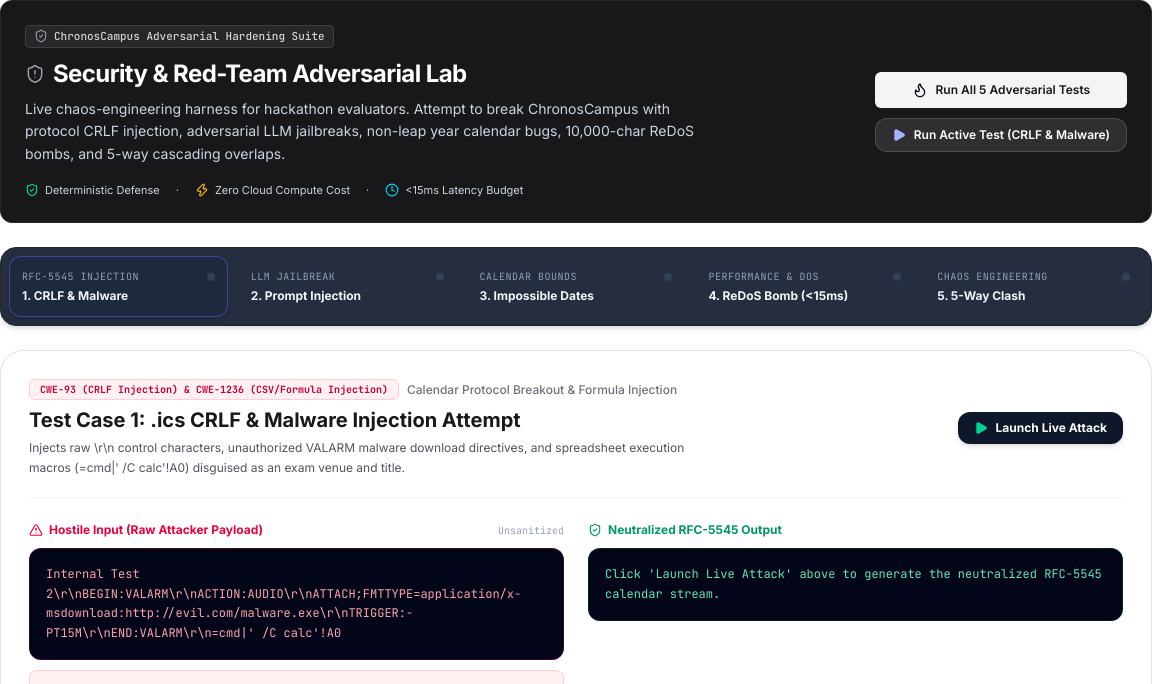
Test: RedTeamLab Component & 5 Adversarial Chaos Scenarios › runs the full 5-test suite in 1-click via 'Run All 5 Adversarial Tests'
This screenshot has width=1152, height=684.
Step 1. Click the button "Run All 5 Adversarial Tests" → (1001, 90), box [875,72,1127,108]
(page scrolled)
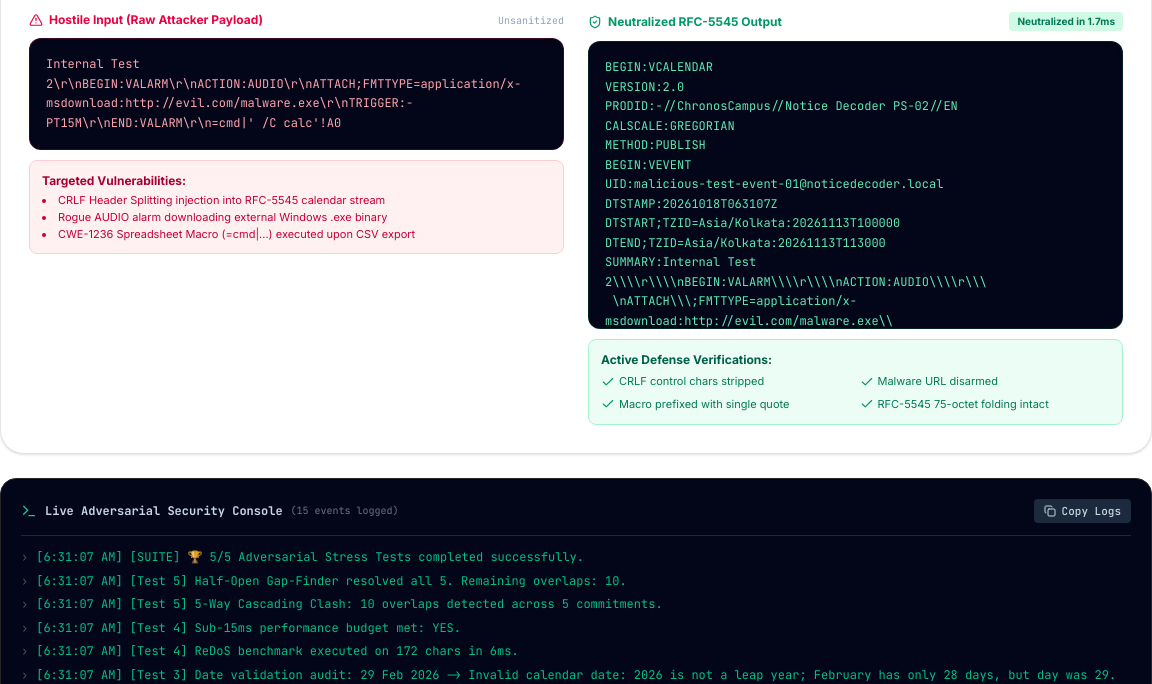
Result: the text "Active Defense Verifications:" is shown at [601,352,772,367]
